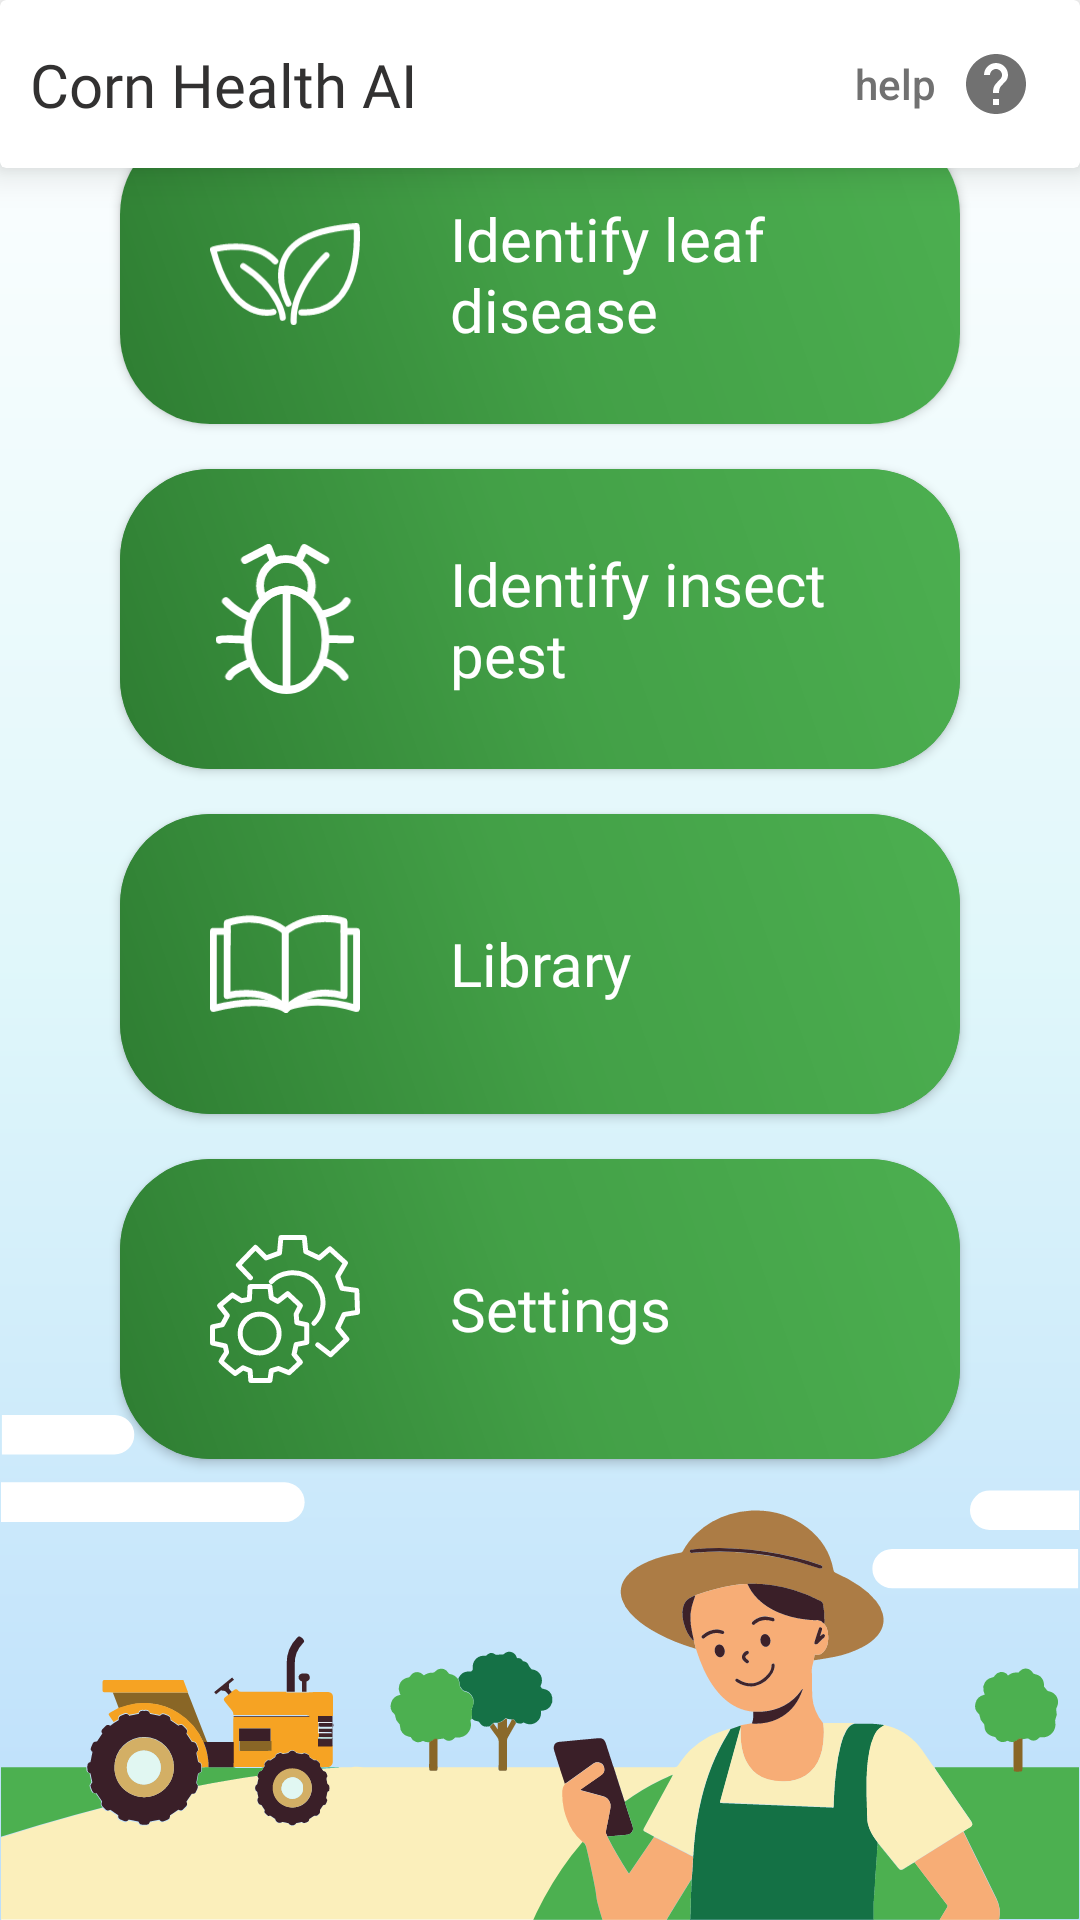

Where icons sit on this 1080px x 1920px app screen, as bbox(x1, y1, x2, y2):
book: bbox(210, 915, 360, 1013)
gears: bbox(210, 1235, 360, 1383)
